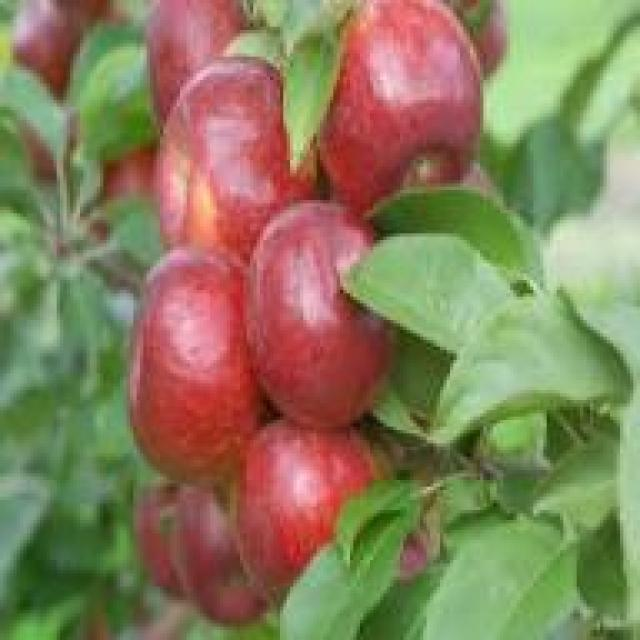apple: (250, 187, 393, 420), (130, 227, 267, 463), (164, 73, 314, 257), (223, 417, 360, 583)
